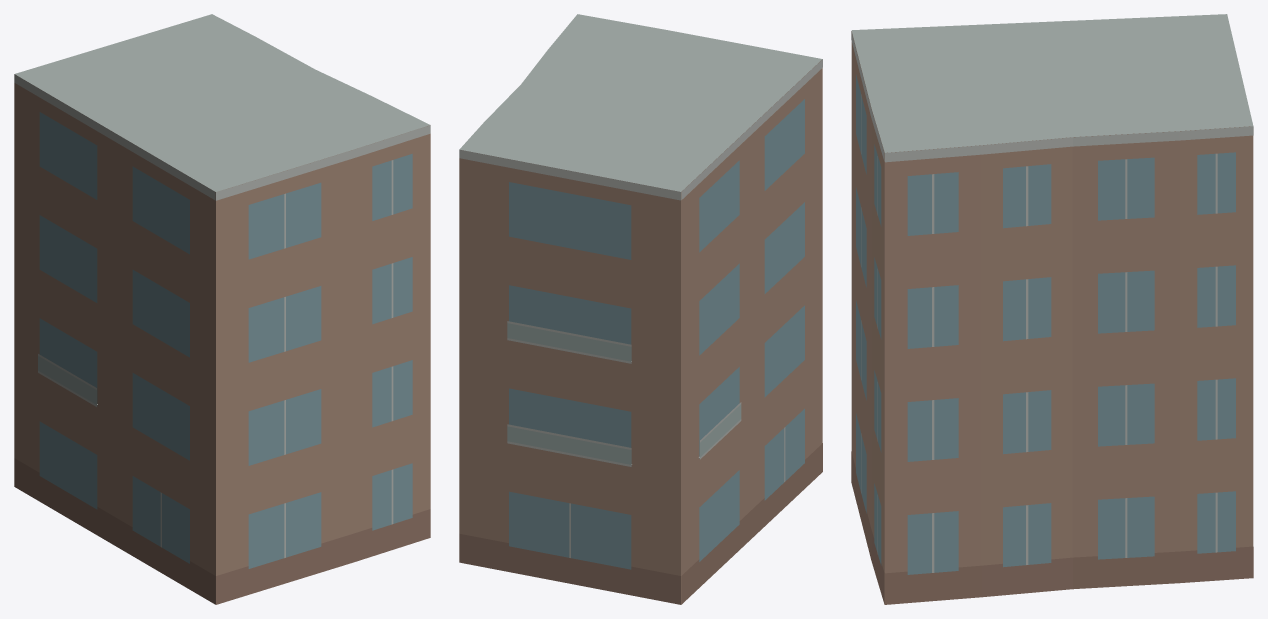
File: survey-upis-32469527.glb
3 renders of one model, left to right at view 1: azimuth 30°, elevation 25°; view 2: azimuth 150°, elevation 25°; view 3: azimuth 270°, elevation 25°, orthographic. The views are drawn at different scales.
Visible parts, largest first — view 1: survey-upis-32469527.tmp; view 2: survey-upis-32469527.tmp; view 3: survey-upis-32469527.tmp.
Part boxes in pixels (left/top/right/bottom): survey-upis-32469527.tmp: left=14, top=14, right=430, bottom=604; survey-upis-32469527.tmp: left=459, top=14, right=822, bottom=604; survey-upis-32469527.tmp: left=851, top=14, right=1253, bottom=604.
Size of the model in its own units: 7.72 by 11.7 by 9.44.
